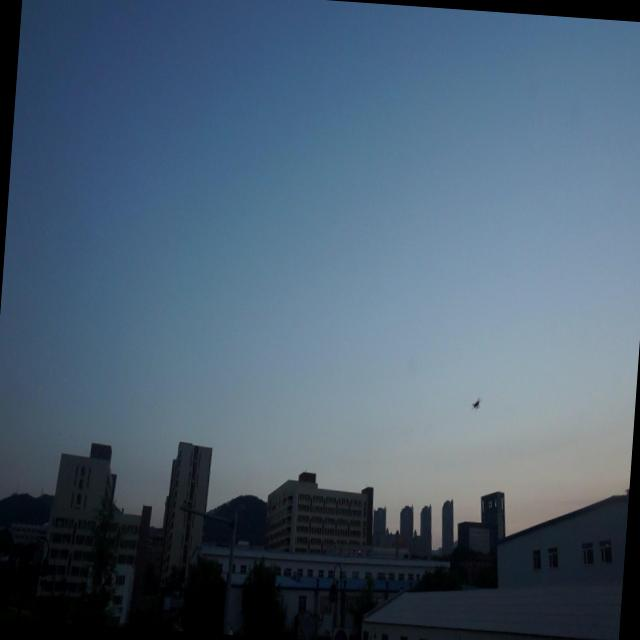drone: (468, 394, 482, 412)
